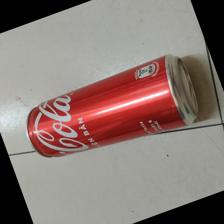Coca: (26, 53, 200, 161)
